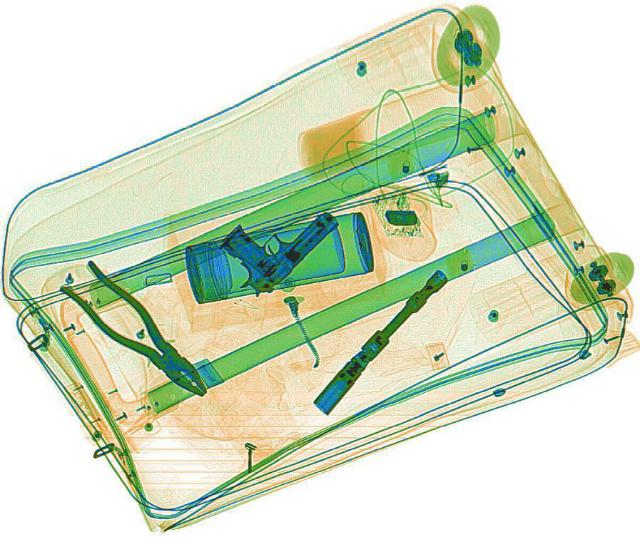Gun: (199, 175, 343, 302)
Pliers: (50, 257, 226, 406)
